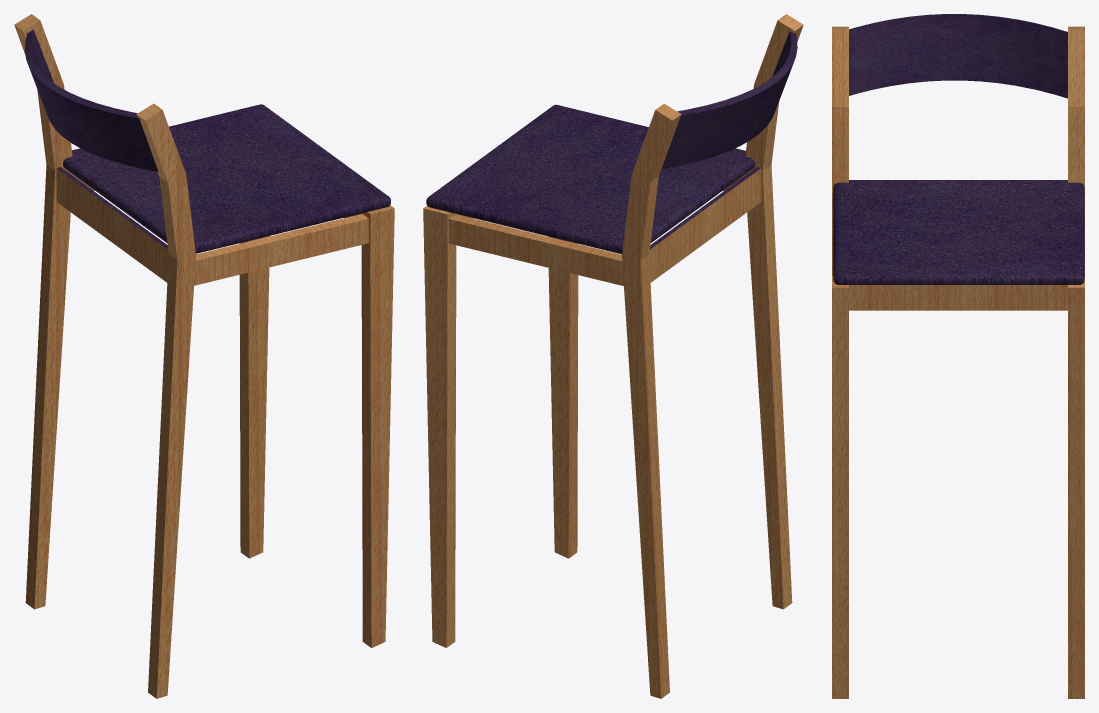
The model's file is chair_tall.fbx.
3 renders of one model, left to right at view 1: azimuth 30°, elevation 25°; view 2: azimuth 150°, elevation 25°; view 3: azimuth 270°, elevation 25°, orthographic. The views are drawn at different scales.
Parts seen in each view (by area): view 1: Box02; view 2: Box02; view 3: Box02.
Boxes of the visible parts, x1,y1,x2,y2 form: Box02: [14, 14, 394, 698]; Box02: [423, 14, 803, 698]; Box02: [832, 14, 1084, 698].
Size of the model in its own units: 4.12 by 8.16 by 3.29.
